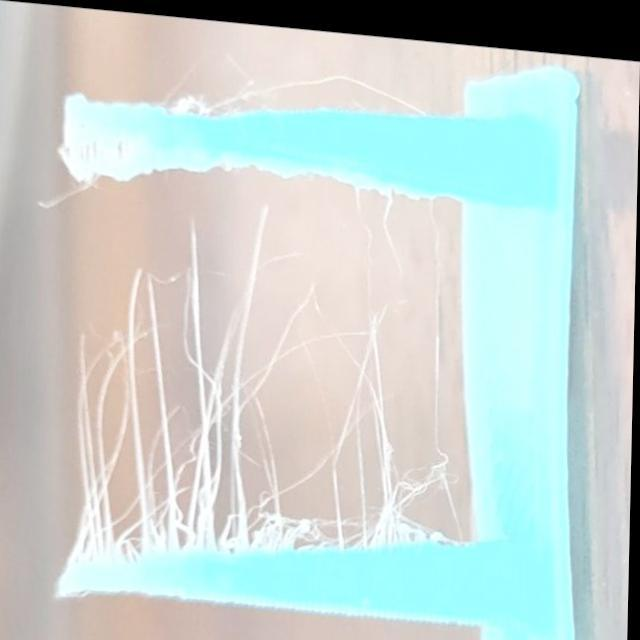spaghetti: (167, 76, 225, 119)
stringing: (62, 150, 473, 590)
